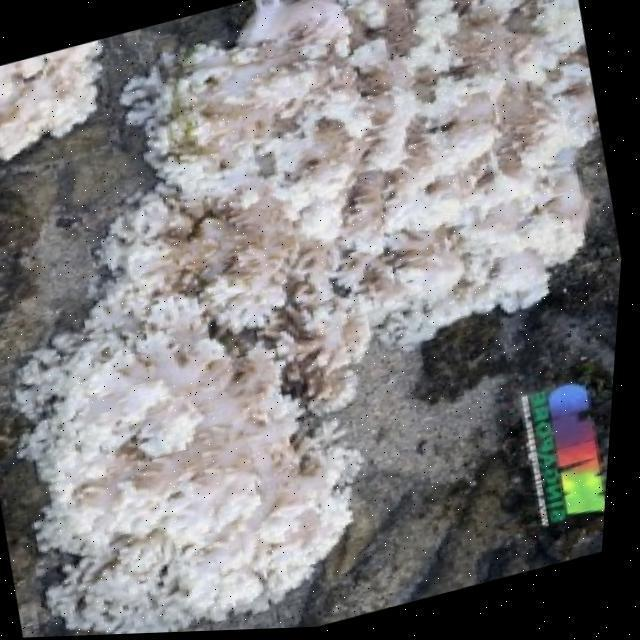Bleached Coral: (100, 0, 640, 437), (0, 242, 428, 640), (0, 37, 123, 166)
